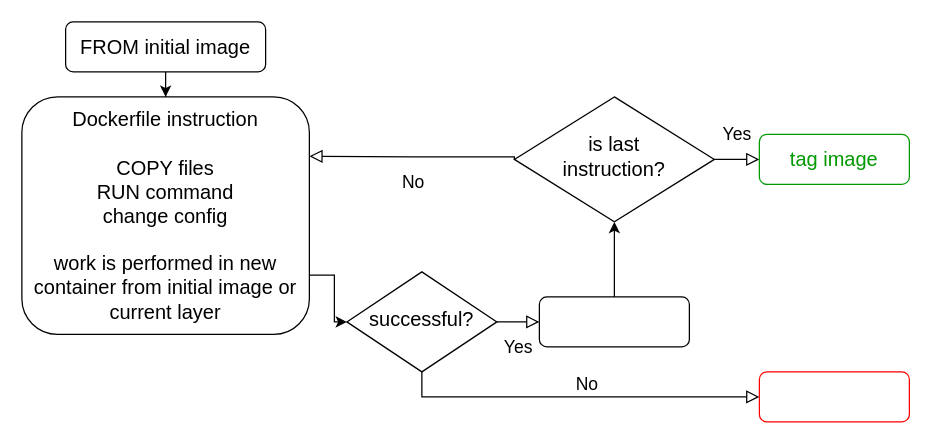
The diagram is 931 pixels wide and 444 high, and some of its shapes have lost their labels. The centre of each missing label's shape, as x and y in pixels:
commit to layer: pixel 613 321
fail build: pixel 833 396
